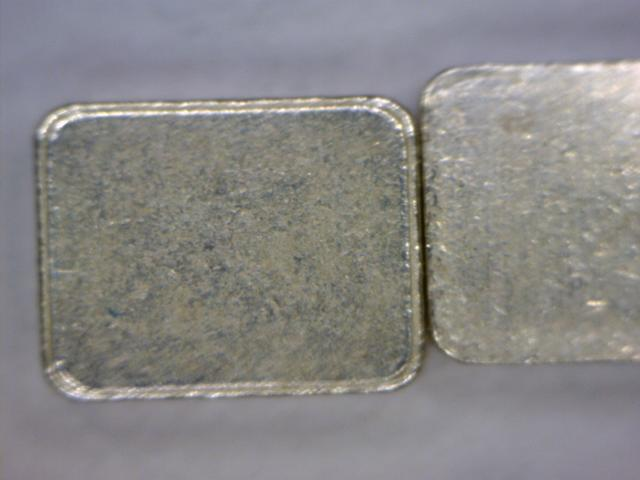nok: (23, 87, 426, 414)
